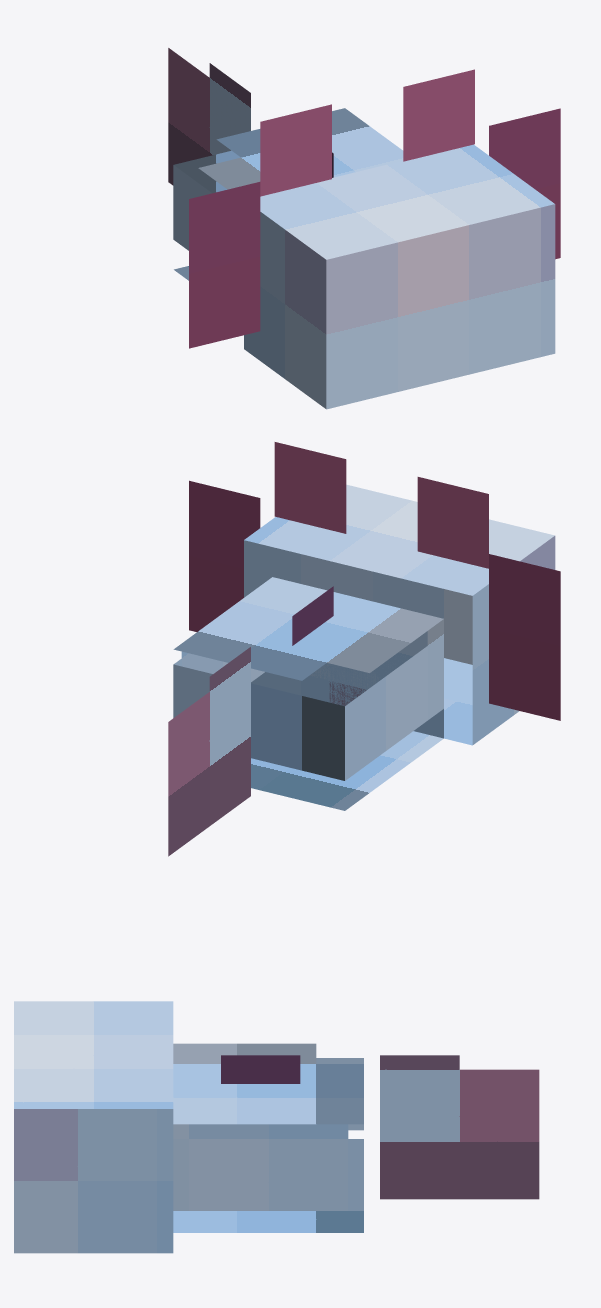
The model's file is sl_axolotl.glb.
3 views of the same model, one above another, from view 1: azimuth 30°, elevation 25°; view 2: azimuth 150°, elevation 25°; view 3: azimuth 270°, elevation 25° (orthographic). The views are drawn at different scales.
Parts seen in each view (by area): view 1: bb_axolotl; view 2: bb_axolotl; view 3: bb_axolotl.
Part boxes in pixels (box(x1,y1,x2,y2)): bb_axolotl: box(168, 48, 560, 409); bb_axolotl: box(168, 442, 560, 856); bb_axolotl: box(14, 1001, 539, 1253).
Bounding box in the file's own units: 1 × 0.5 × 1.12.
1 material, 1 textured.
